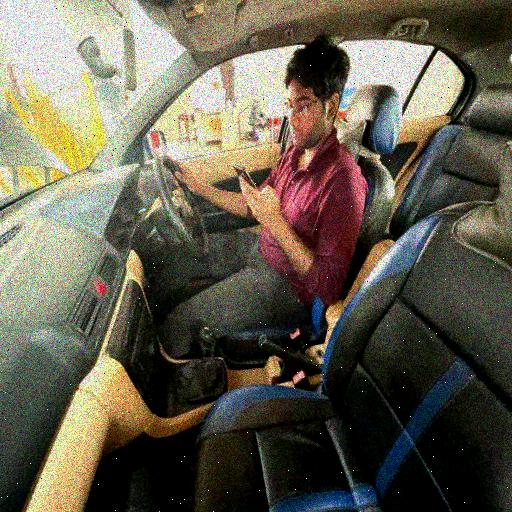Texting_on_phone: (167, 40, 363, 323)
